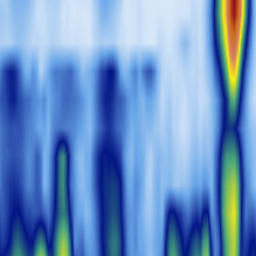defect: (93, 49, 125, 256), (1, 59, 27, 256), (213, 1, 251, 127), (213, 127, 246, 256), (162, 187, 213, 256), (52, 134, 75, 256), (30, 215, 49, 256)
